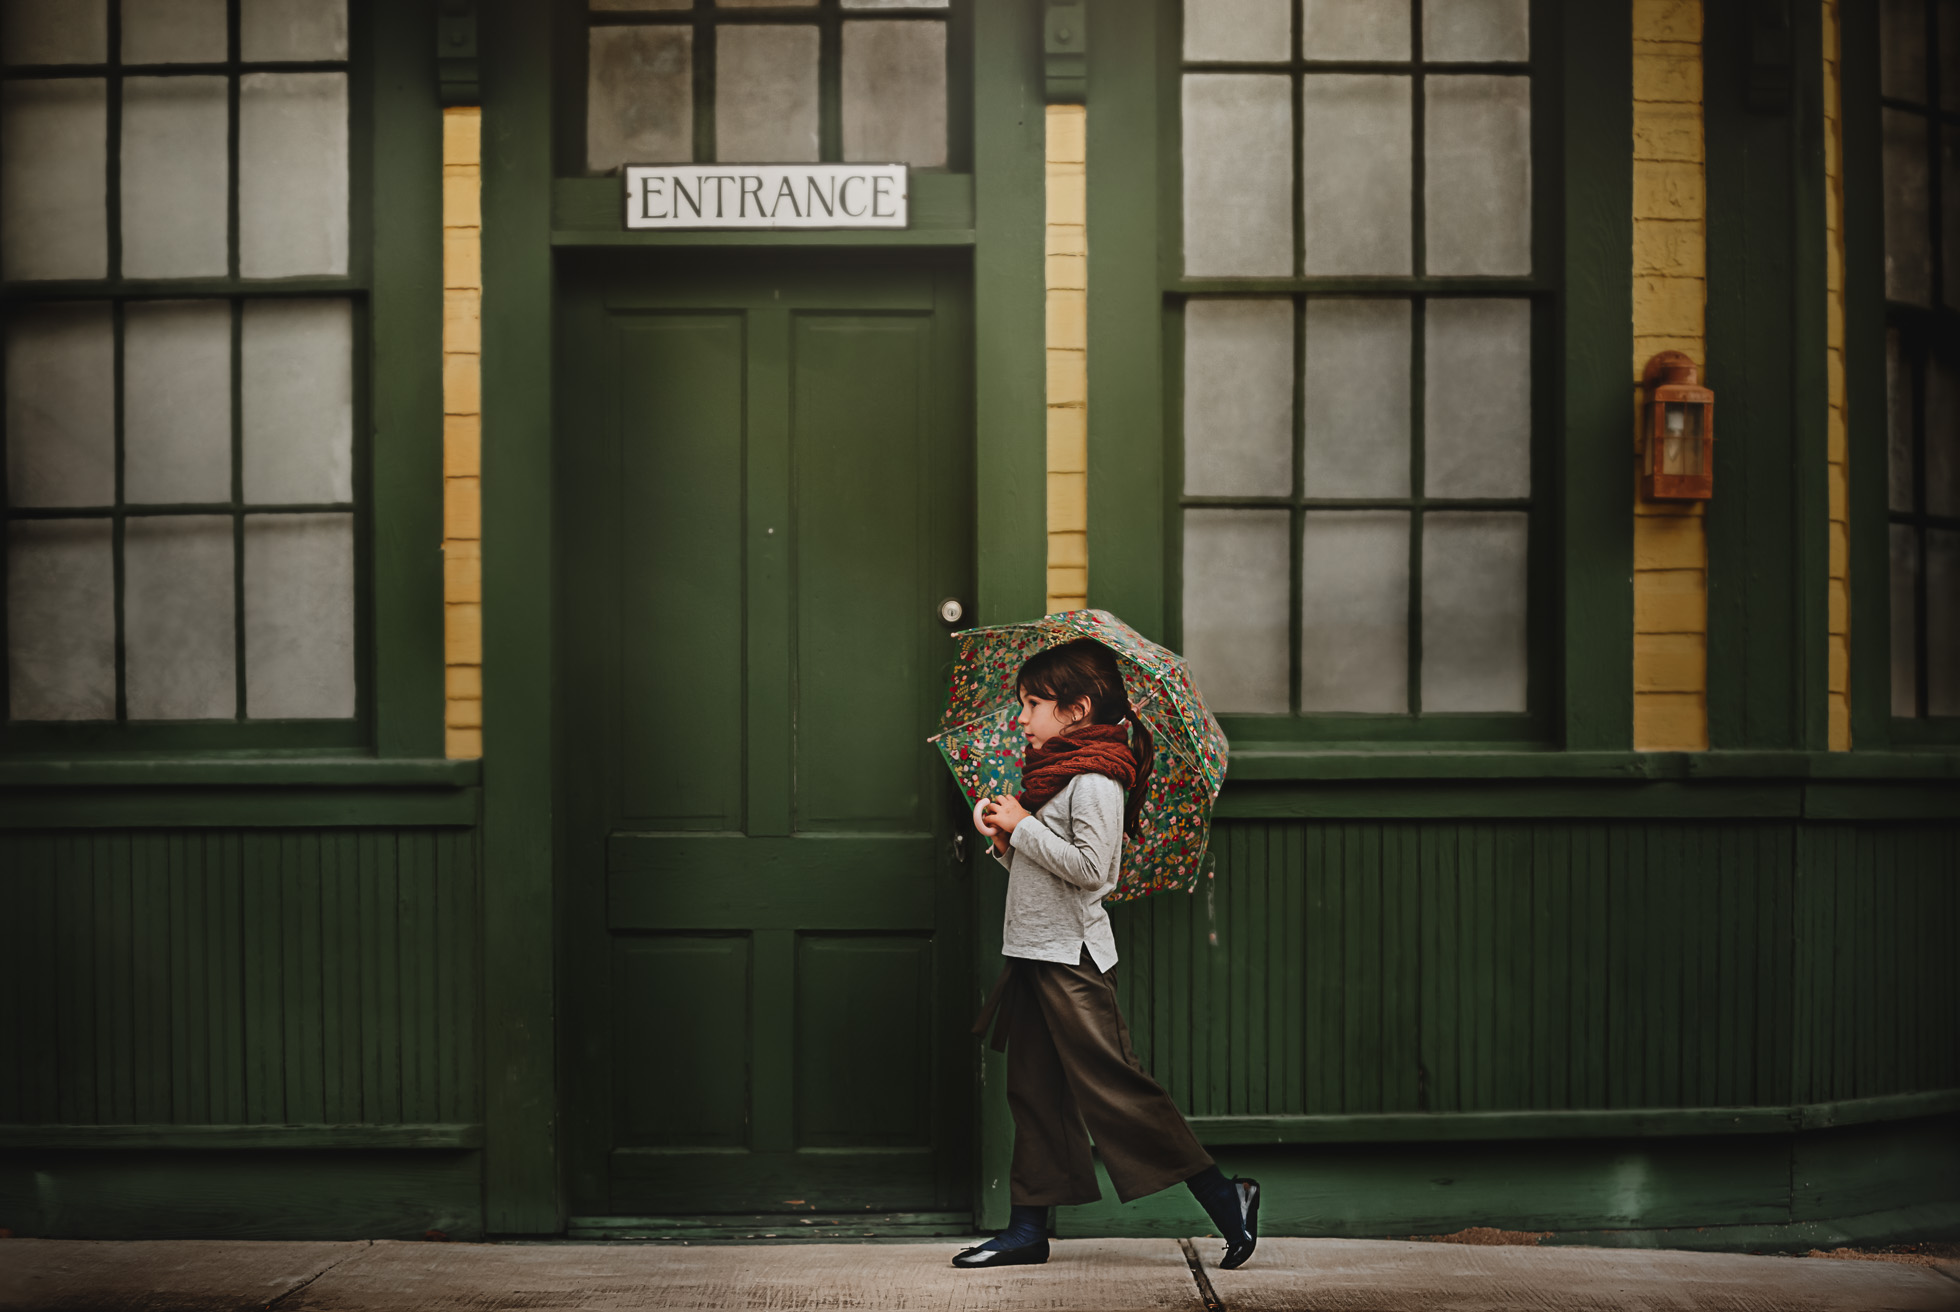person: (874, 591, 1322, 1297)
